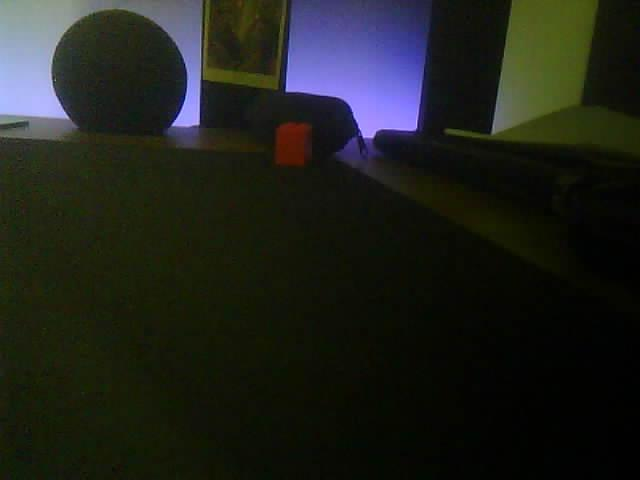lego: (274, 121, 313, 166)
